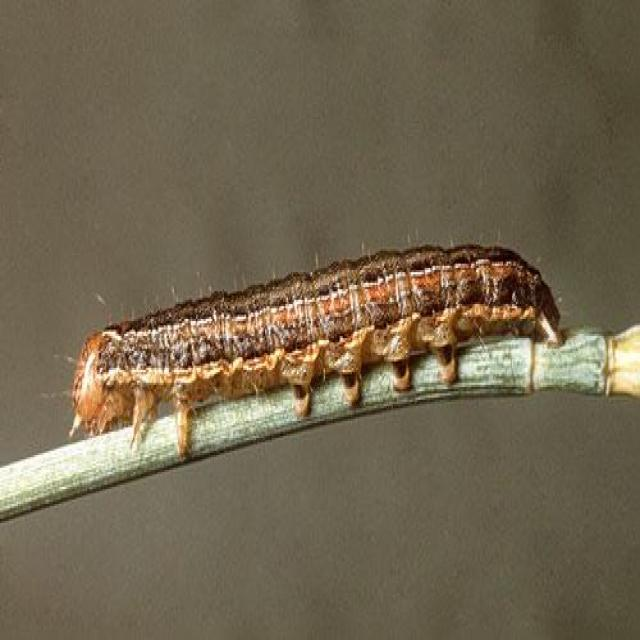armyworm: (38, 216, 571, 465)
